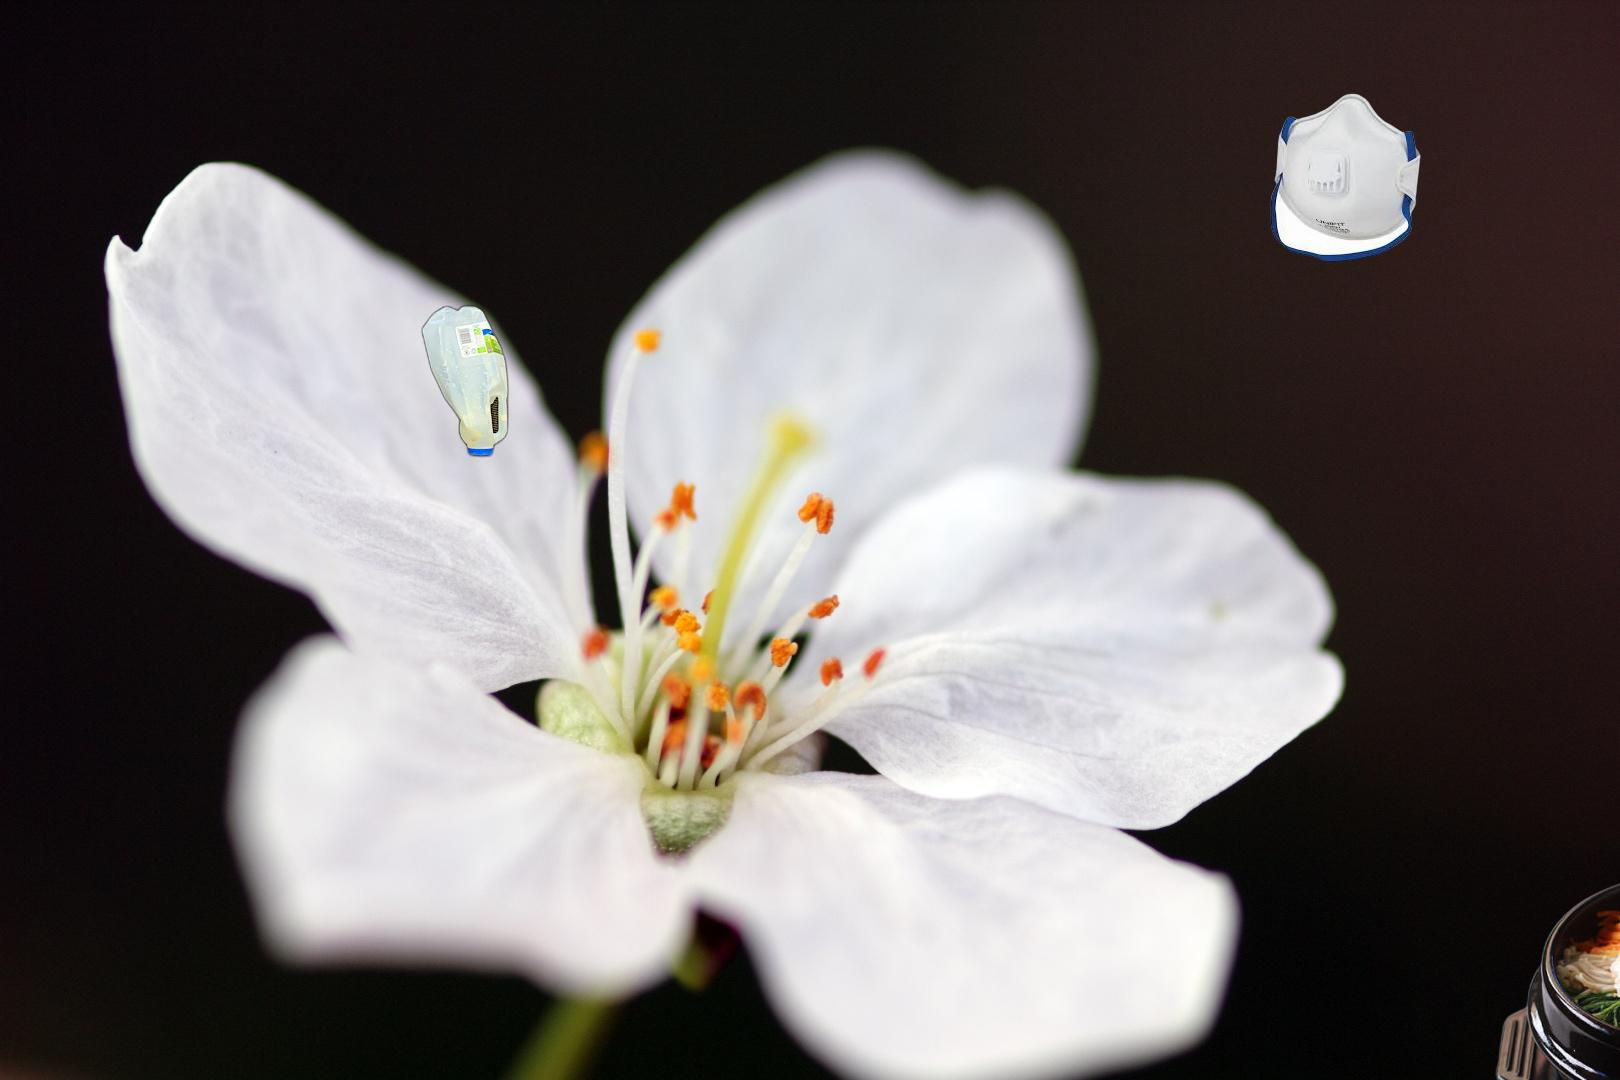biological: (1490, 865, 1620, 1080)
plastic-bottles: (417, 300, 512, 463)
trash: (1268, 90, 1424, 265)
